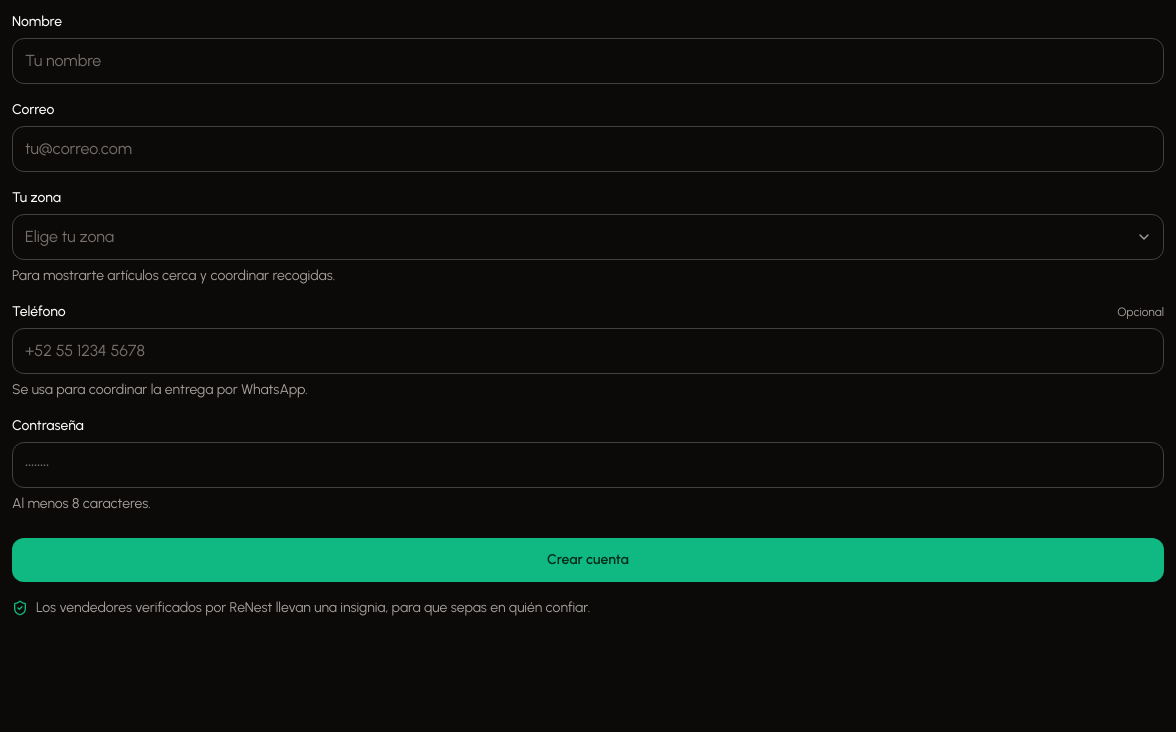
Test: RegisterForm › shows the duplicate email message on the email field
Type "Camila Torres" into the field labelled "Nombre".
click(588, 61); type("Camila Torres")  # box x1=12 y1=38 x2=1164 y2=84
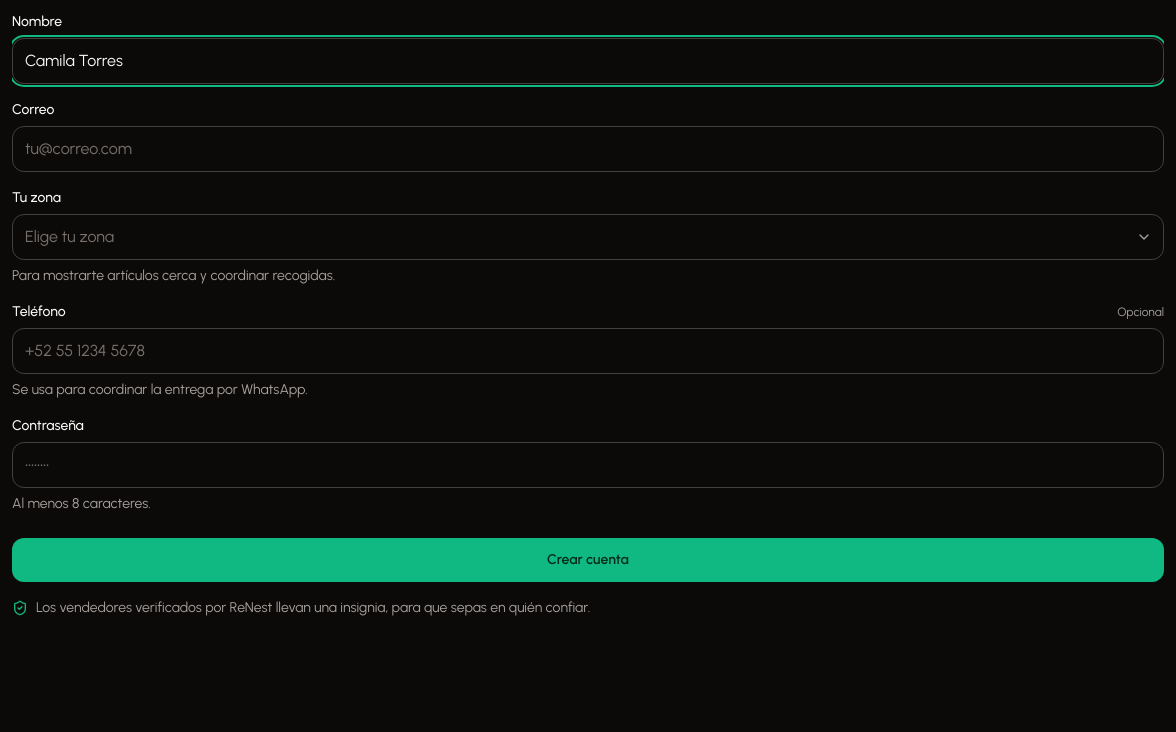
Type "camila@renest.app" into the field labelled "Correo".
click(588, 149); type("camila@renest.app")  # box x1=12 y1=126 x2=1164 y2=172
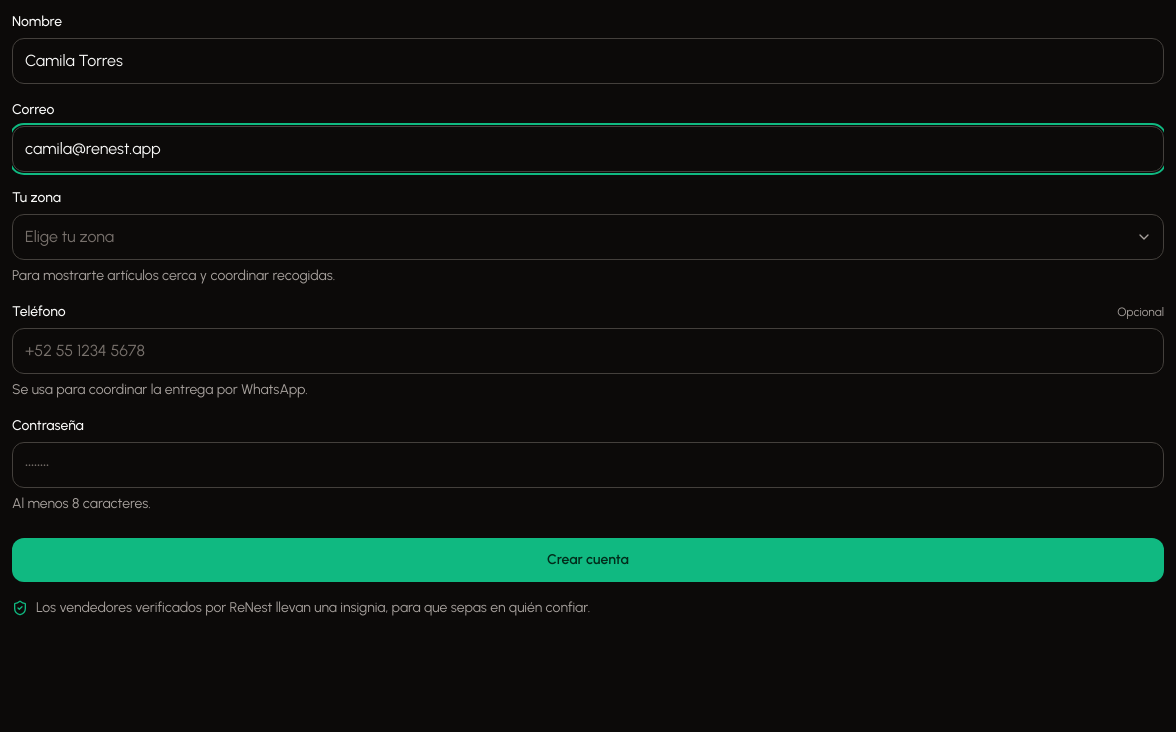
Select "Palermo, Buenos Aires" in the dropdown labelled "Tu zona" at x=588, y=237, box x1=12 y1=214 x2=1164 y2=260
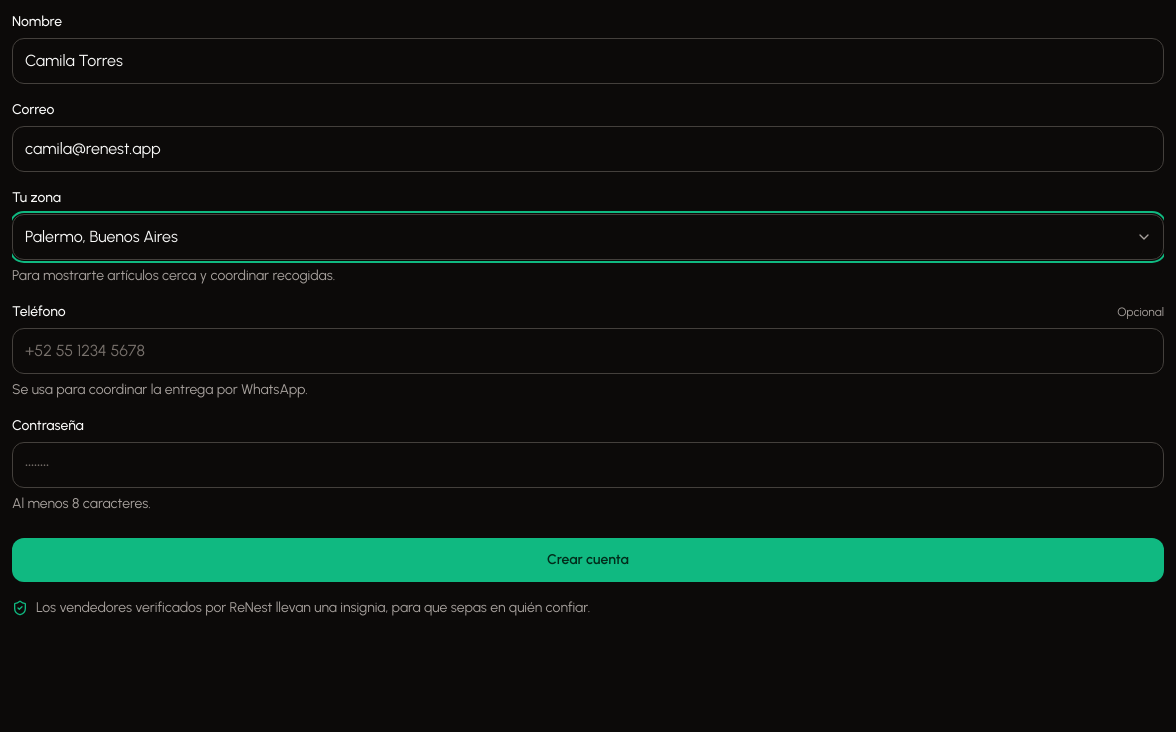
Type "+54 9 11 2345 6789" into the field labelled "Teléfono".
click(588, 351); type("+54 9 11 2345 6789")  # box x1=12 y1=328 x2=1164 y2=374
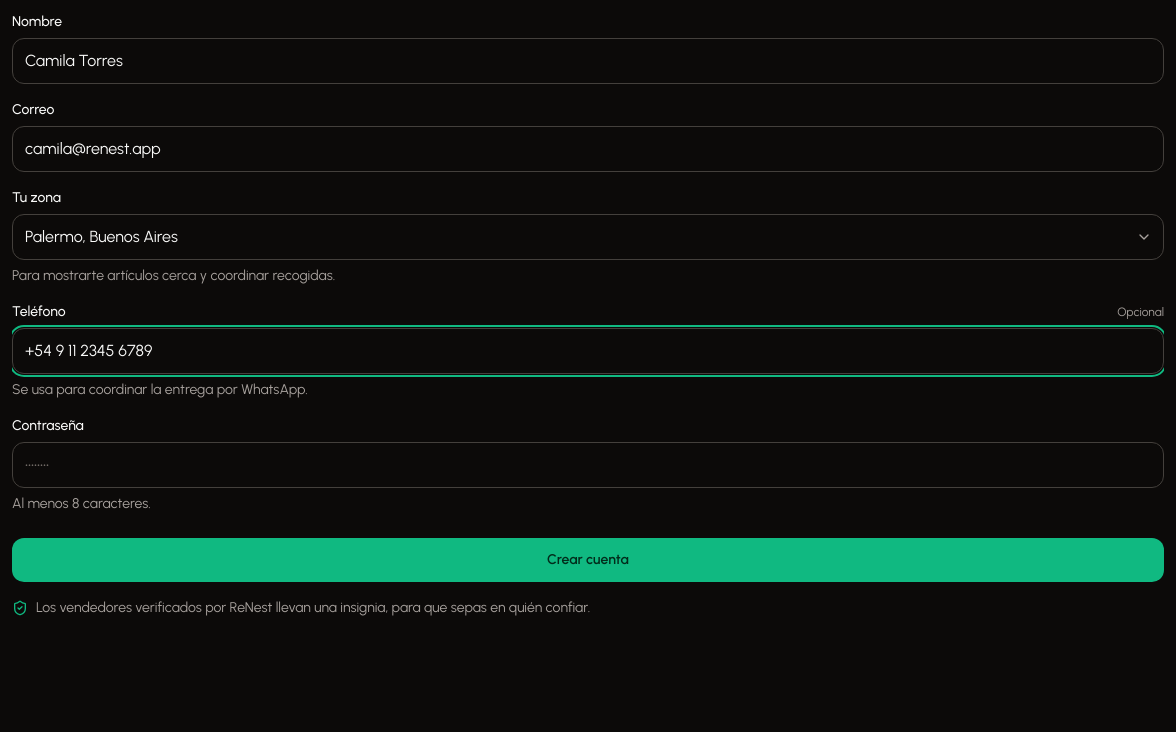
Type "secret123" into the password field labelled "Contraseña".
click(588, 465); type("secret123")  # box x1=12 y1=442 x2=1164 y2=488
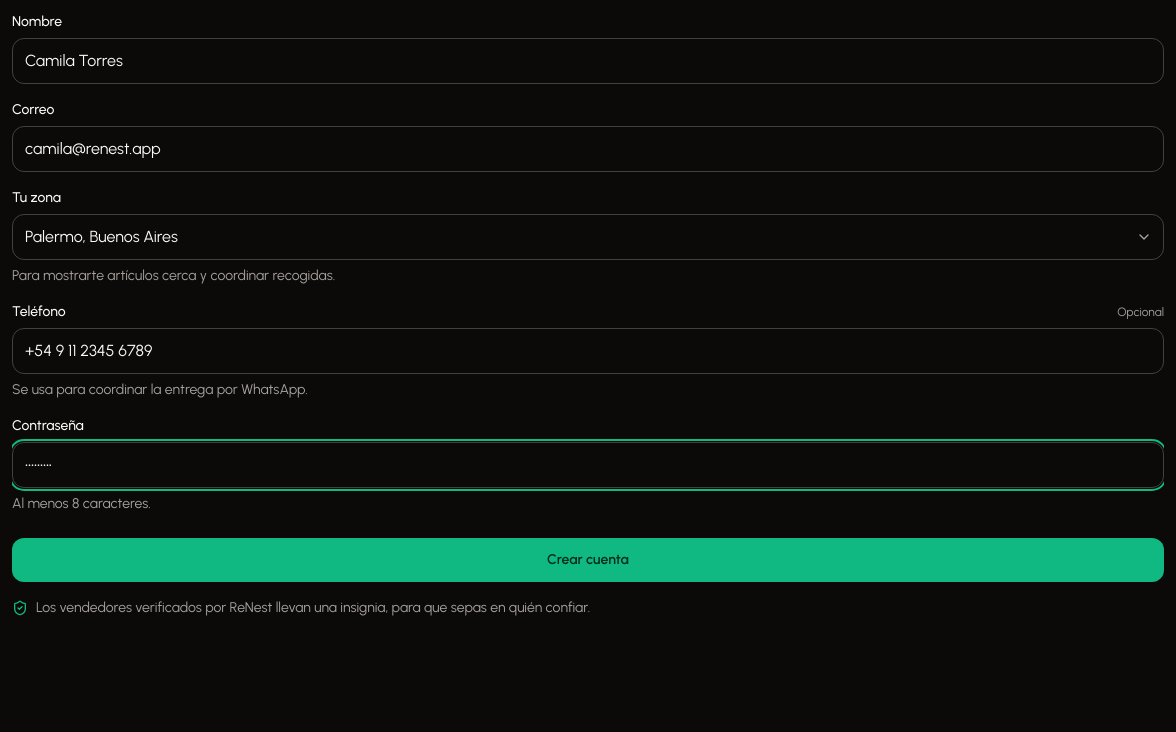
Click the button "Crear cuenta".
click(588, 560)  # box x1=12 y1=538 x2=1164 y2=582
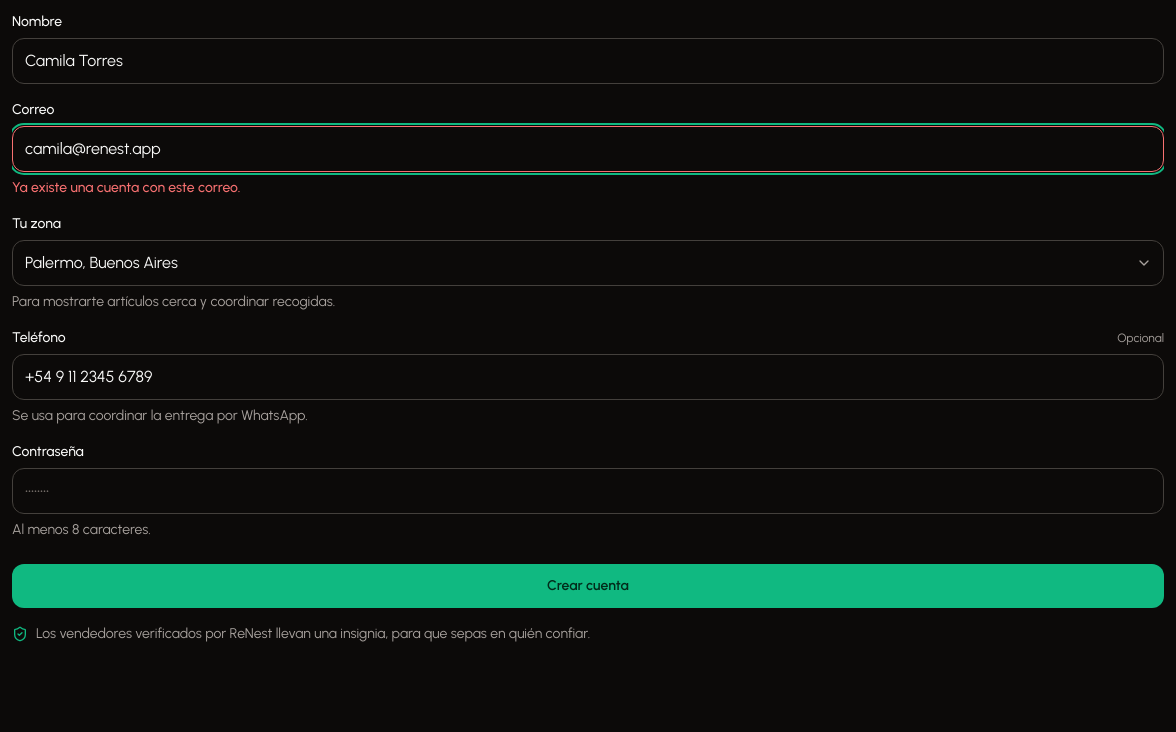
Result: the text "Ya existe una cuenta con este correo." is shown at x1=12 y1=179 x2=240 y2=196
